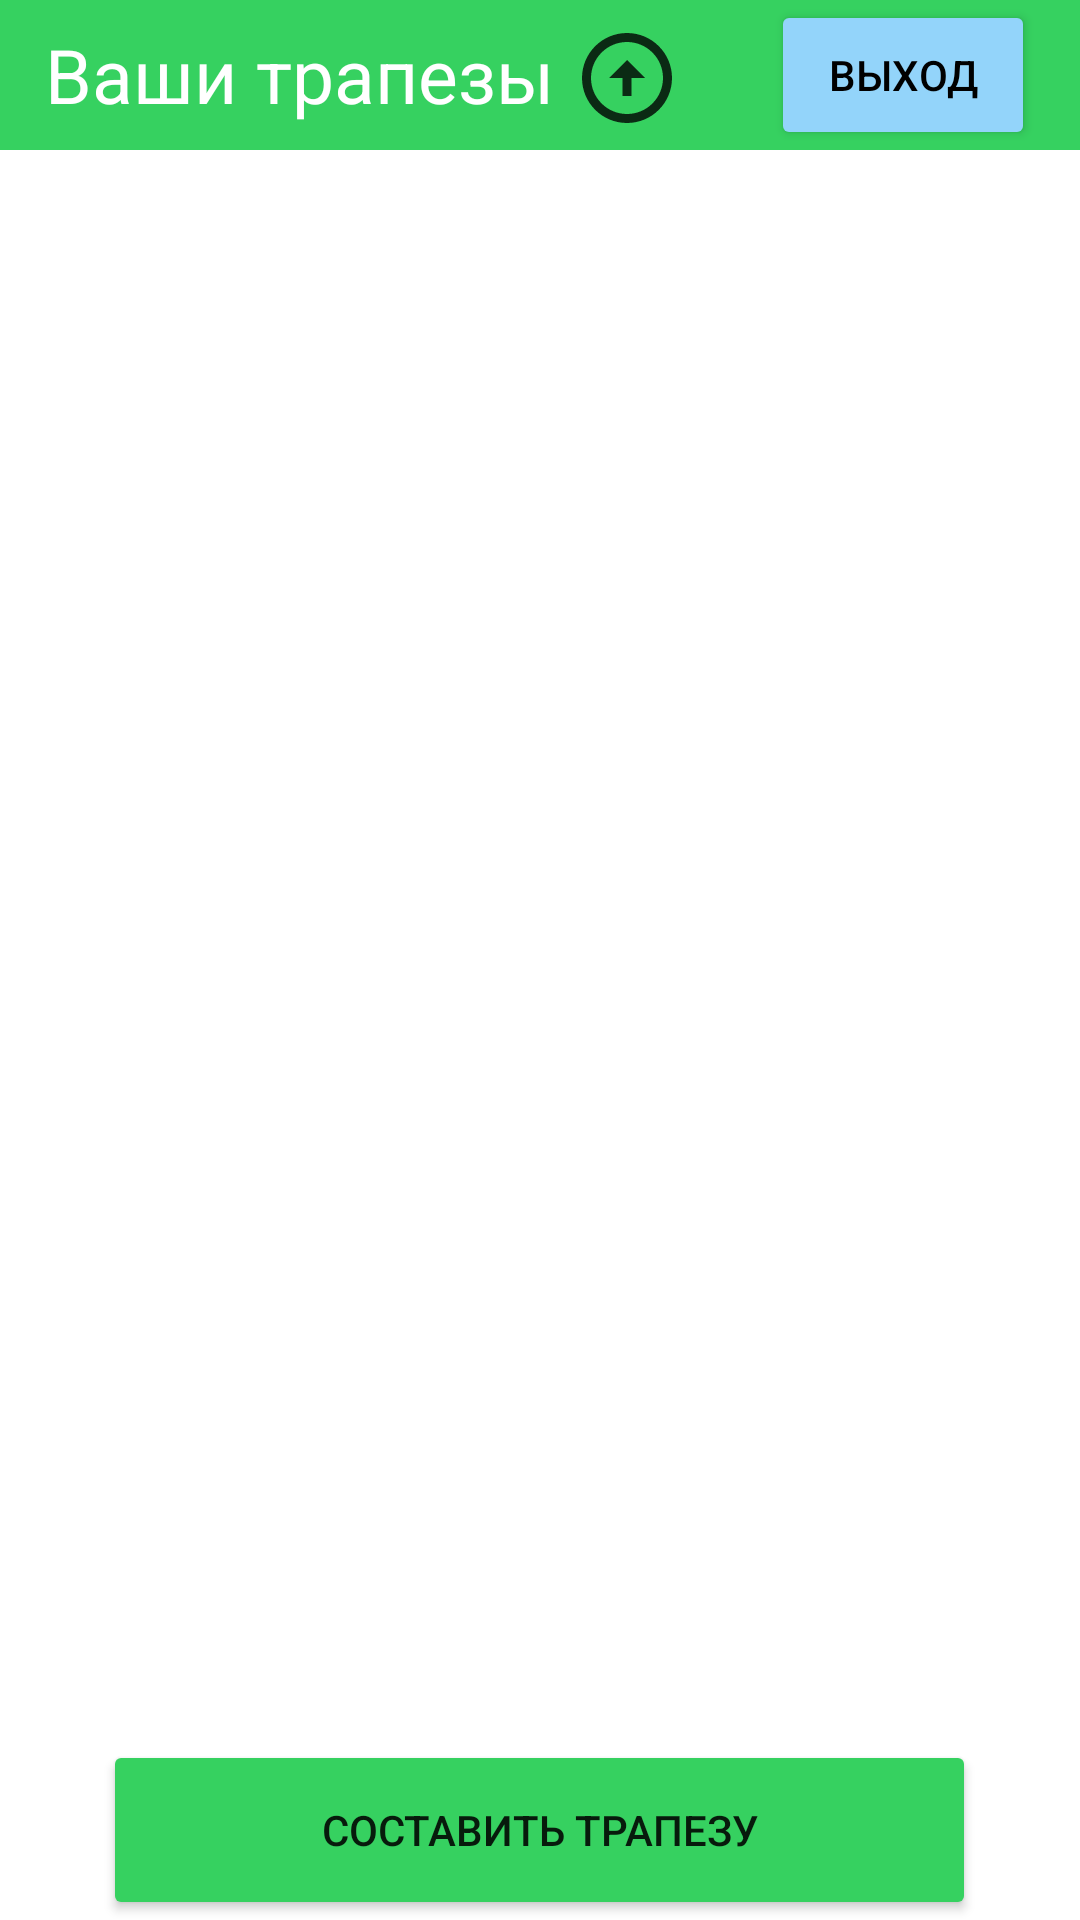

Named icons in this screenshot (1080w x 1920h) and their bounding boxes, {"left": x1, "top": y1, "right": x2, "bottom": y2}:
export: {"left": 582, "top": 33, "right": 672, "bottom": 123}
